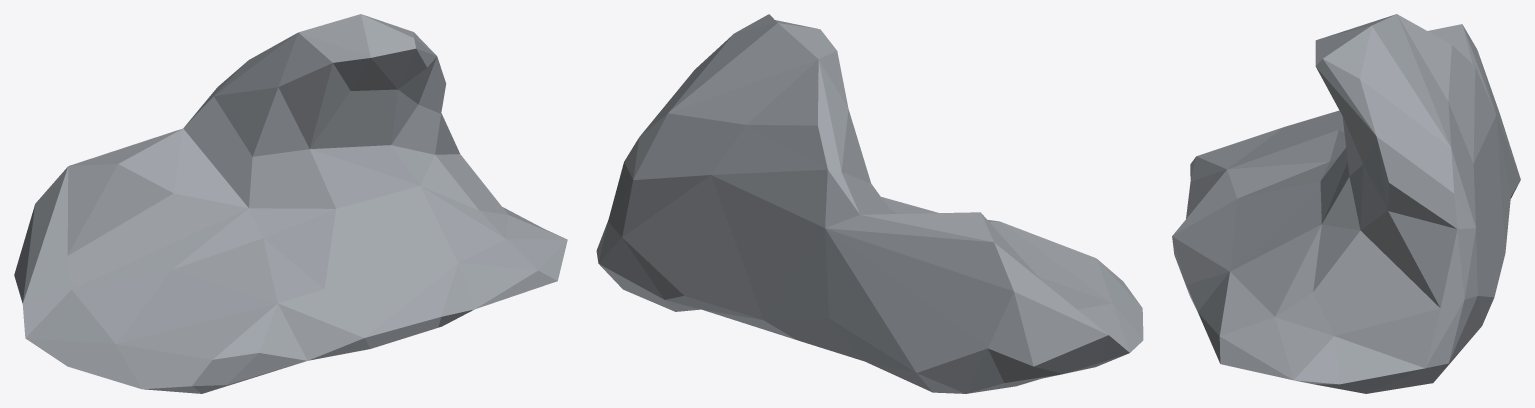
The model's file is SM_Env_Snow_Mound_02.fbx.
3 views of the same model, side by side, from view 1: azimuth 30°, elevation 25°; view 2: azimuth 150°, elevation 25°; view 3: azimuth 270°, elevation 25° (orthographic). The views are drawn at different scales.
Visible parts, largest first — view 1: SM_Env_Snow_Mound_02; view 2: SM_Env_Snow_Mound_02; view 3: SM_Env_Snow_Mound_02.
Boxes of the visible parts, x1,y1,x2,y2 form: SM_Env_Snow_Mound_02: (14,14,567,393); SM_Env_Snow_Mound_02: (596,14,1143,393); SM_Env_Snow_Mound_02: (1172,14,1520,393).
Size of the model in its own units: 196 by 105 by 106.
Materials: 1 (1 with a texture image).
